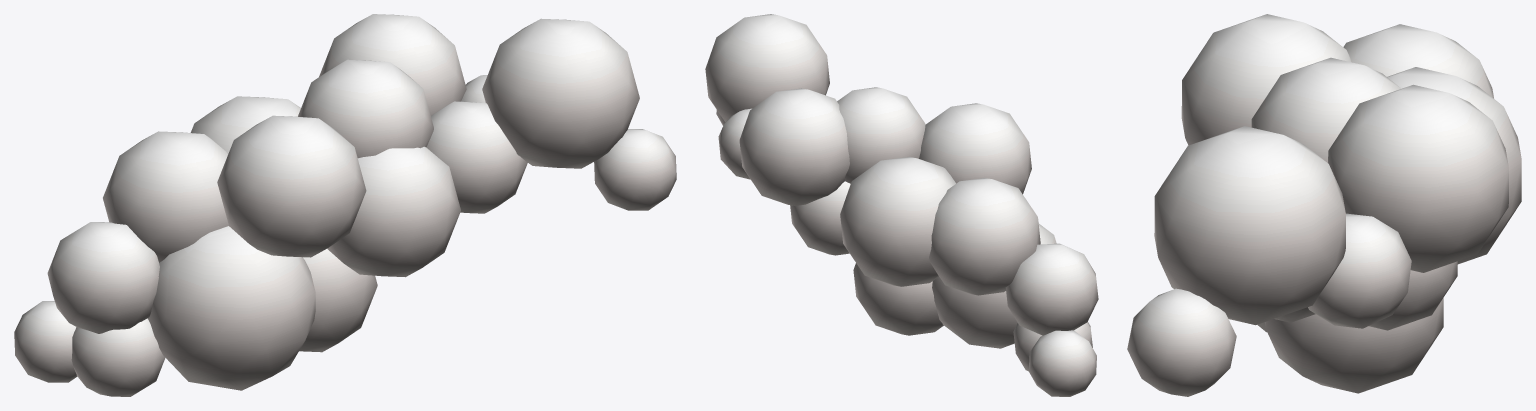
Rendered from Cloud_1B.fbx.
The picture shows the model from 3 angles, left to right: view 1: azimuth 30°, elevation 25°; view 2: azimuth 150°, elevation 25°; view 3: azimuth 270°, elevation 25°; orthographic projection. The views are drawn at different scales.
Parts seen in each view (by area): view 1: Cloud_1B; view 2: Cloud_1B; view 3: Cloud_1B.
Part boxes in pixels (box(x1,y1,x2,y2)): Cloud_1B: box(14, 14, 676, 396); Cloud_1B: box(705, 14, 1098, 396); Cloud_1B: box(1127, 14, 1521, 396).
Size of the model in its own units: 2178 by 1153 by 1050.
